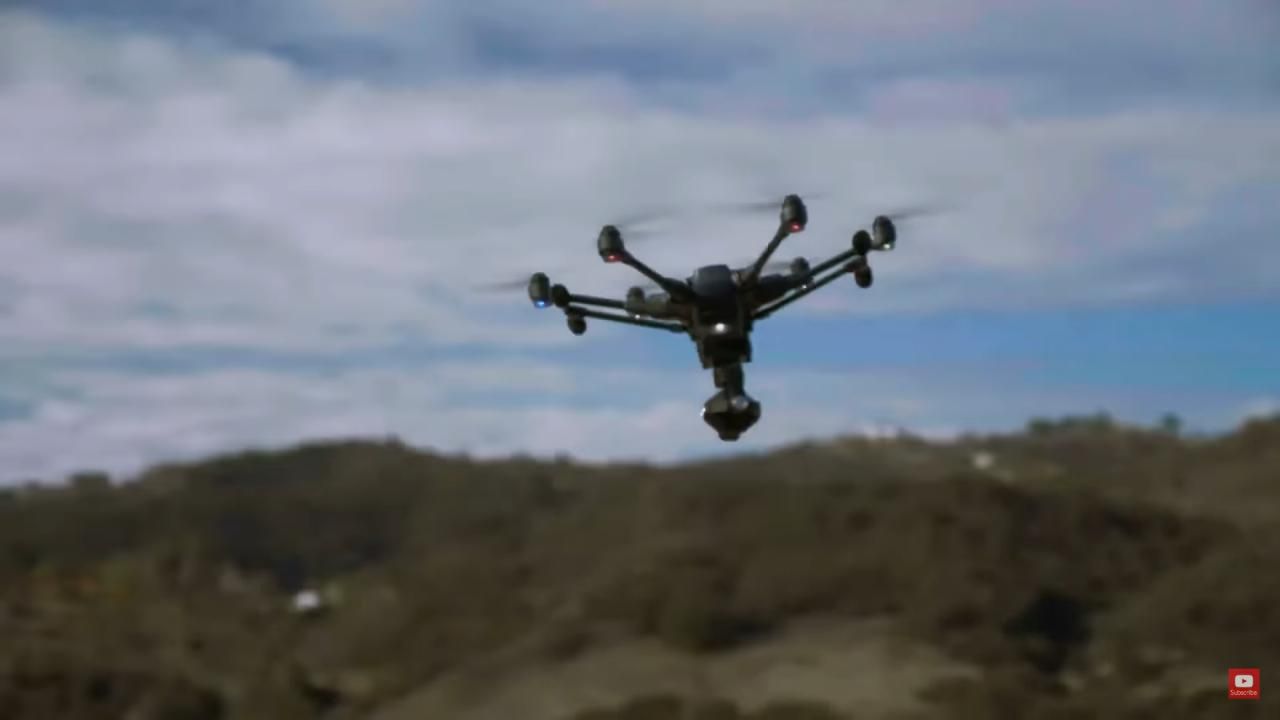Drone: (479, 188, 967, 456)
